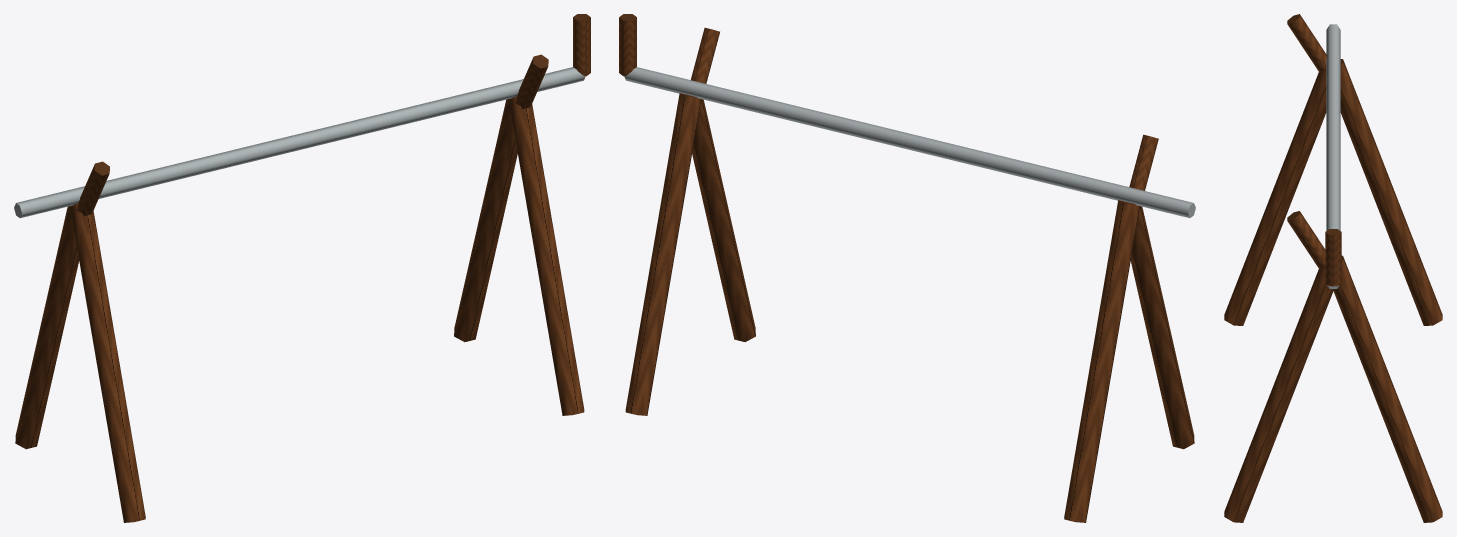
Rendered from wilderness-survival-camp-spit-roast-frame-73e1efd0__21952.glb.
3 renders of one model, left to right at view 1: azimuth 30°, elevation 25°; view 2: azimuth 150°, elevation 25°; view 3: azimuth 270°, elevation 25°, orthographic. The views are drawn at different scales.
Parts seen in each view (by area): view 1: spit-roast-frame, spit/metal, spit/wood; view 2: spit-roast-frame, spit/metal, spit/wood; view 3: spit-roast-frame, spit/metal, spit/wood.
Part boxes in pixels (x1,y1,x2,y2): spit-roast-frame: (15, 54, 584, 522); spit/metal: (14, 67, 585, 218); spit/wood: (573, 14, 590, 76); spit-roast-frame: (625, 27, 1194, 522); spit/metal: (624, 67, 1195, 218); spit/wood: (619, 14, 636, 76); spit-roast-frame: (1224, 14, 1442, 522); spit/metal: (1326, 24, 1340, 288); spit/wood: (1325, 229, 1341, 286).
Bounding box in the file's own units: 1.82 × 1.05 × 0.6572.
2 materials, 1 textured.
